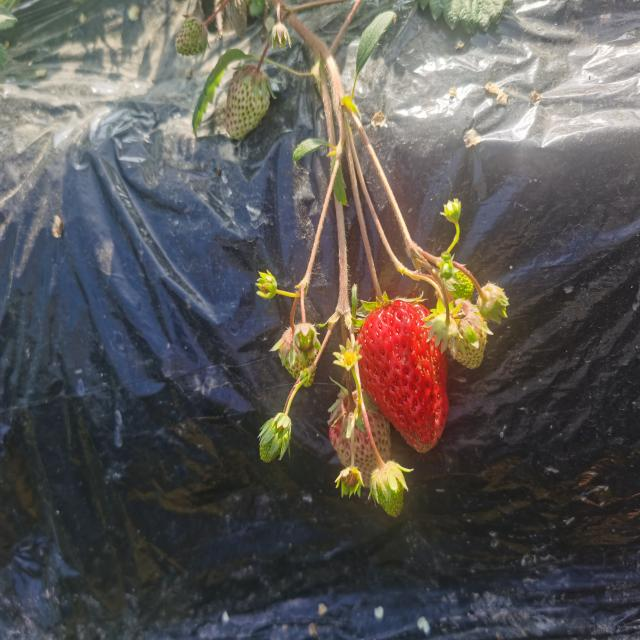stem: (355, 205, 385, 306)
strawberry: (356, 299, 449, 452)
